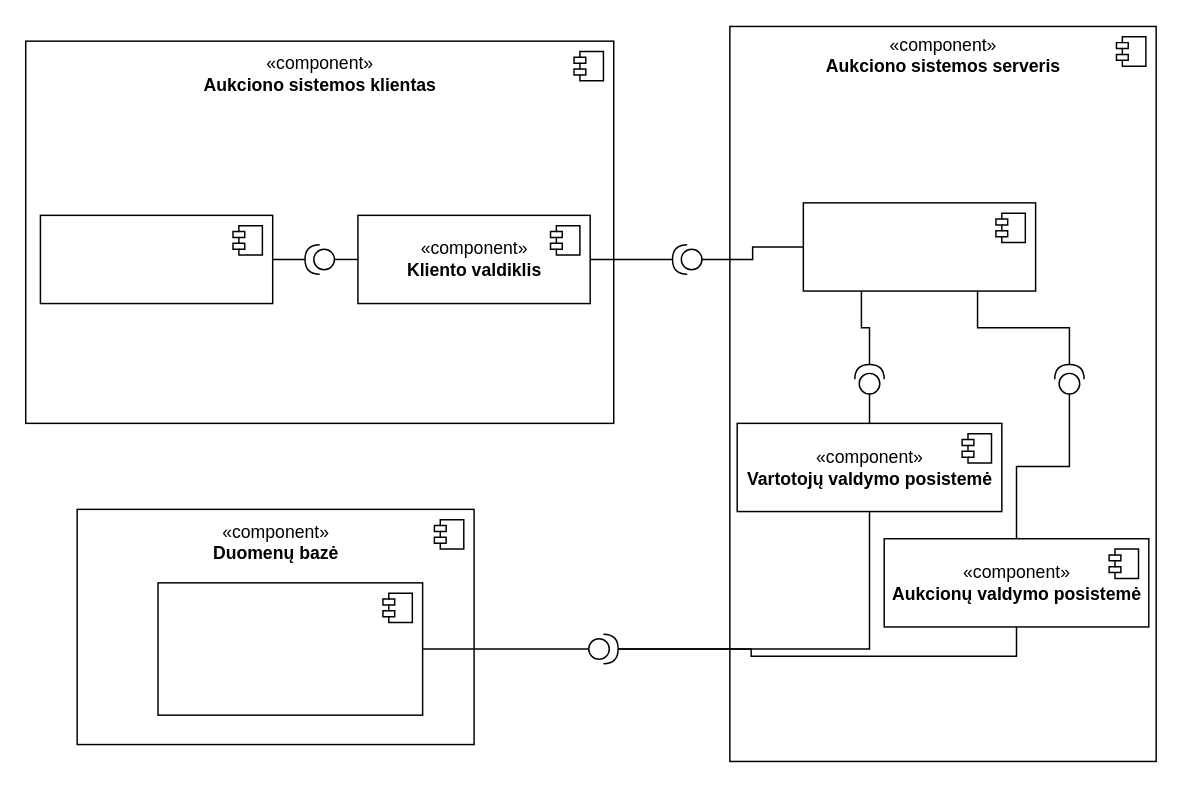
Image size: 1182x786. Some labels were removed from this diagram. Here are the shapes that lost their labels. From the top down, the centre of each, then its label:
point (156, 259): «component» Grafinė vartotojo sąsaja
point (919, 246): «component» Serverio valdiklis
point (290, 648): «component» MySQL DB
